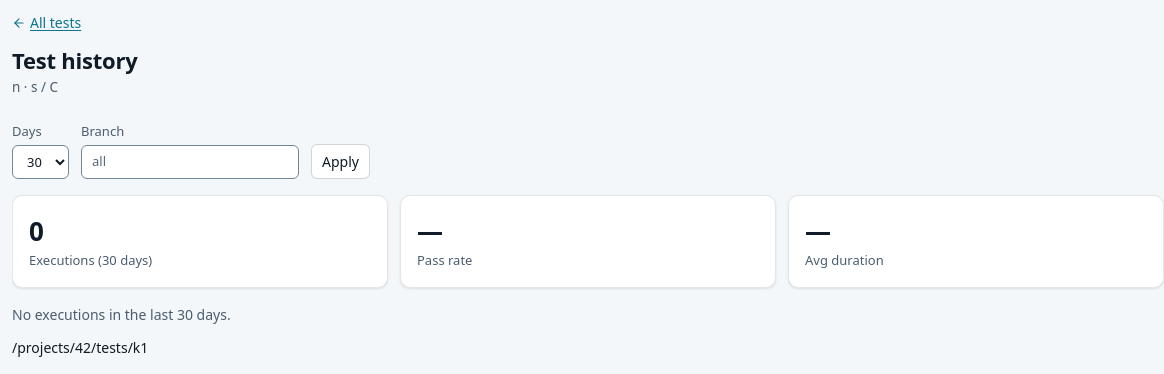
Test: History › changes update the URL
Check: the text "n" is shown, box x1=12 y1=78 x2=20 y2=96
Select "7" in the dropdown labelled "Days" at (40, 162), box x1=12 y1=145 x2=69 y2=179
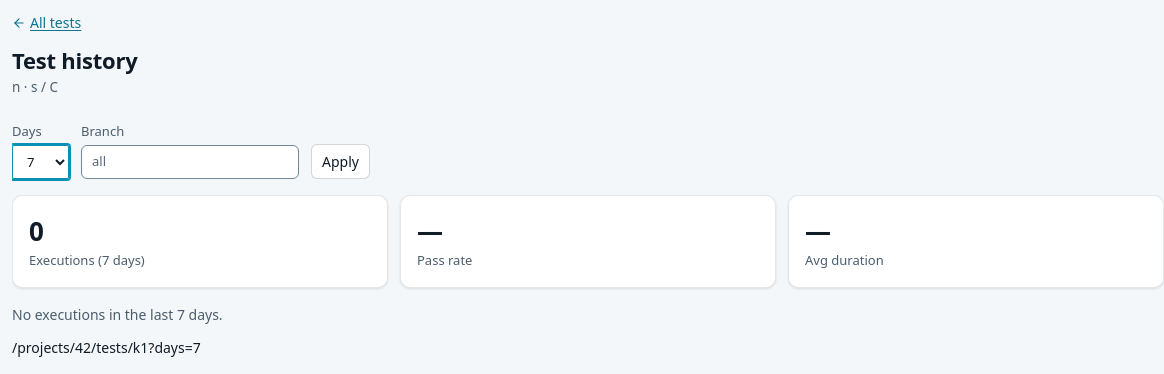
Check: the text with test id "where" reads "/projects/42/tests/k1?days=7", box x1=12 y1=338 x2=201 y2=357
Type "x" into the field labelled "Branch".
click(190, 162); type("x")  # box x1=81 y1=145 x2=299 y2=179
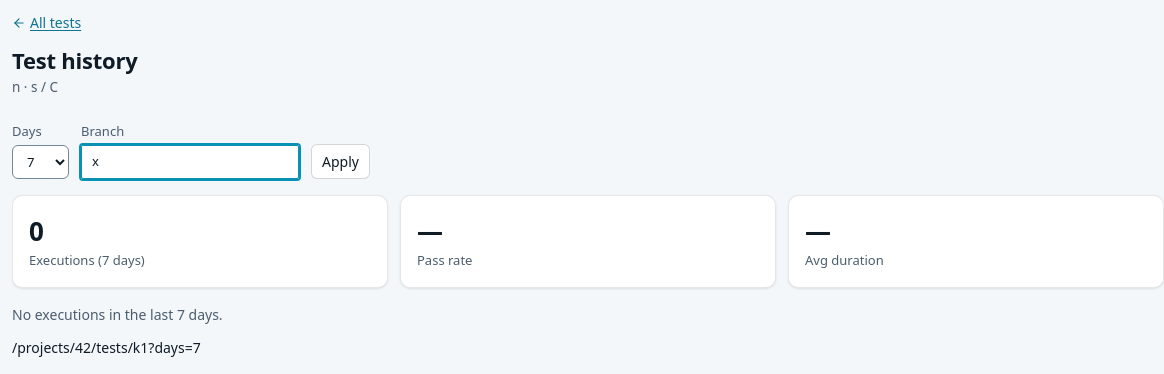
Check: the text with test id "where" reads "/projects/42/tests/k1?days=7", box x1=12 y1=338 x2=201 y2=357
Click the button "Apply".
click(340, 162)  # box x1=311 y1=144 x2=370 y2=179
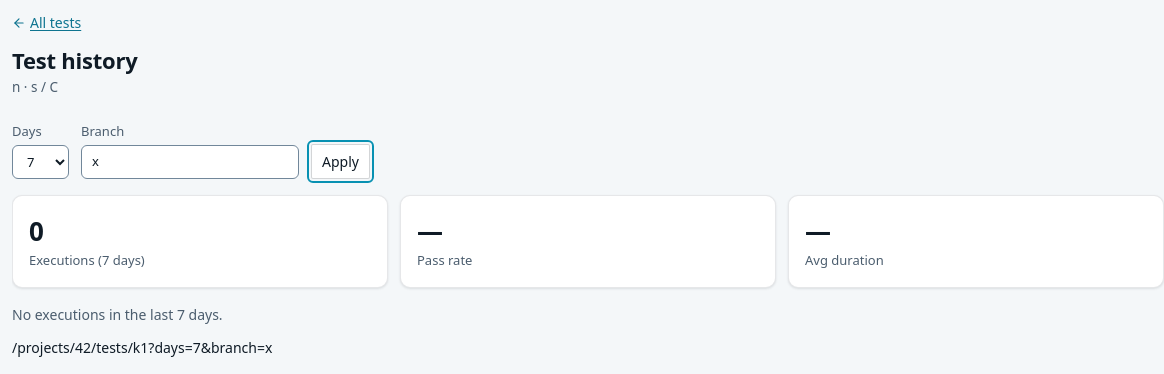
Check: the text with test id "where" reads "/projects/42/tests/k1?days=7&branch=x", box x1=12 y1=338 x2=272 y2=357
